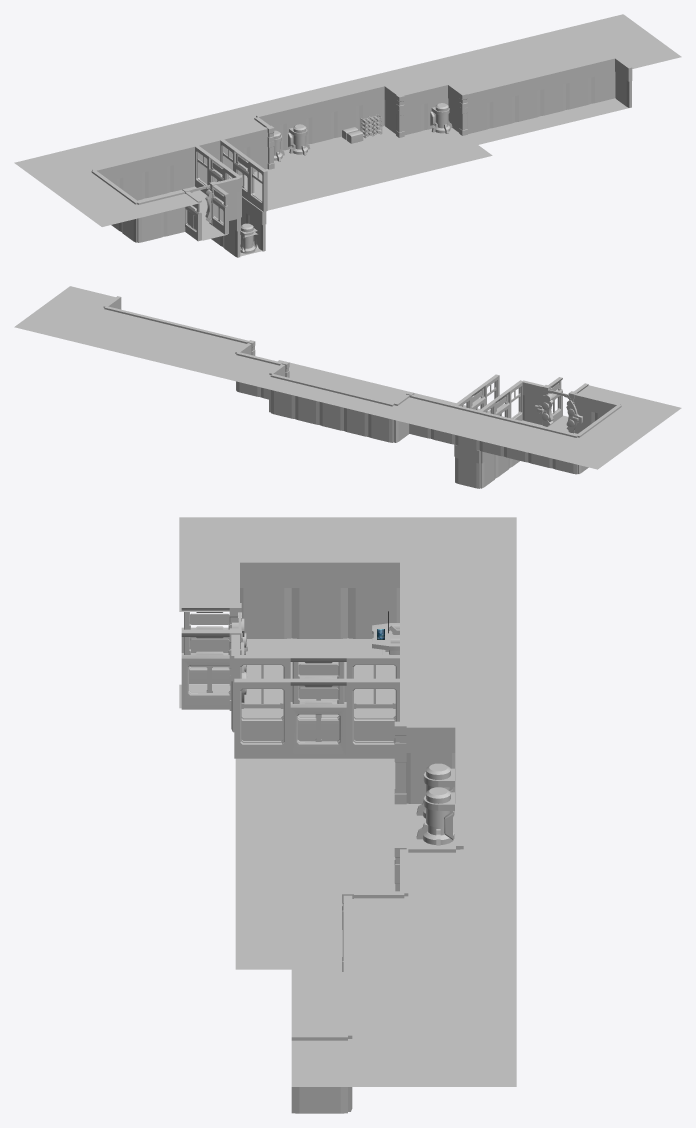
Rendered from 2stageRemake1.obj.
The picture shows the model from 3 angles, top to bottom: view 1: azimuth 30°, elevation 25°; view 2: azimuth 150°, elevation 25°; view 3: azimuth 270°, elevation 25°; orthographic projection. The views are drawn at different scales.
Parts seen in each view (by area): view 1: Wall_01__189_, Wall_01__57_, Wall_01__188_, Wall_01__192_, Wall_01__187_, Wall_01__146__1, Wall_01__128_, Base_6, Wall_01__191_, Wall_01__58_, Wall_01__190_, Wall_01__138__1 (+83 smaller); view 2: Wall_01__83_, Wall_01__136__1, Wall_01__145__1, Wall_01__138__1, Wall_01__139__1, Wall_01__146__1, Wall_01__127_, Wall_01__143_, Base_3, Ground_02__115_, Ground_01__270_, Ground_02__65_ (+61 smaller); view 3: Wall_01__116_, Base_6, Wall_01__108_, Base_2, Wall_01__117_, Base_9, Generator_01__40_, Wall_up_01__115_, Base_16, Base_3, Wall_up_03__3_, Wall_01__47_ (+99 smaller).
Boxes of the visible parts, x1,y1,x2,y2 form: Wall_01__189_: (489, 96, 514, 128); Wall_01__57_: (145, 166, 170, 198); Wall_01__188_: (515, 90, 540, 122); Wall_01__192_: (566, 77, 591, 109); Wall_01__187_: (540, 84, 565, 115); Wall_01__146__1: (308, 112, 333, 144); Wall_01__128_: (137, 212, 163, 242); Base_6: (249, 160, 267, 211); Wall_01__191_: (591, 72, 615, 103); Wall_01__58_: (170, 160, 194, 191); Wall_01__190_: (467, 102, 489, 133); Wall_01__138__1: (334, 106, 359, 137); Wall_01__83_: (455, 458, 480, 488); Wall_01__136__1: (368, 413, 393, 442); Wall_01__145__1: (344, 408, 368, 436); Wall_01__138__1: (295, 396, 319, 424); Wall_01__139__1: (271, 390, 295, 418); Wall_01__146__1: (319, 402, 343, 430); Wall_01__127_: (522, 395, 542, 425); Wall_01__143_: (480, 454, 495, 488); Base_3: (506, 380, 522, 420); Ground_02__115_: (67, 302, 104, 318); Ground_01__270_: (314, 372, 351, 387); Ground_02__65_: (630, 412, 667, 428); Wall_01__116_: (291, 588, 347, 638); Base_6: (234, 678, 290, 758); Wall_01__108_: (240, 588, 291, 638); Base_2: (346, 678, 402, 758); Wall_01__117_: (348, 588, 399, 638); Base_9: (290, 707, 346, 758); Generator_01__40_: (416, 787, 454, 845); Wall_up_01__115_: (291, 559, 347, 587); Base_16: (181, 658, 230, 709); Base_3: (234, 655, 290, 734); Wall_up_03__3_: (290, 678, 346, 707); Wall_01__47_: (291, 1087, 347, 1113).
Bounding box in the file's own units: 96 × 12.12 × 24.
